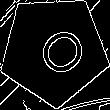O_SW: (21, 17, 87, 83)
